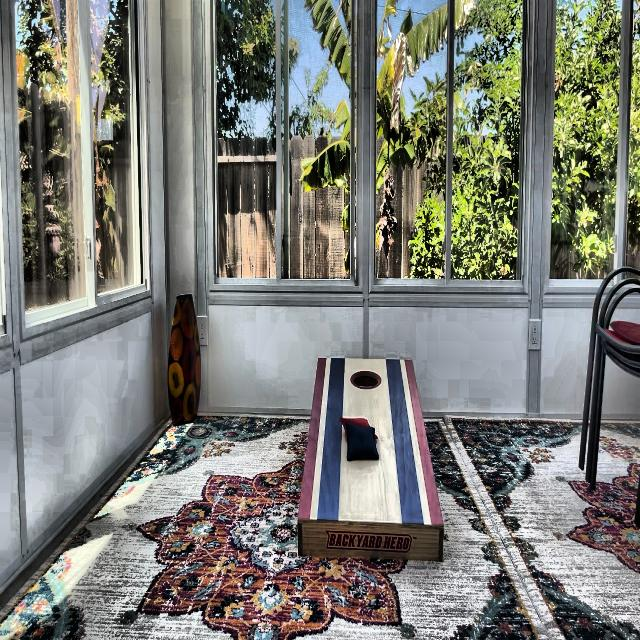blue-bean-bag: (346, 422, 378, 462)
board: (310, 357, 423, 520)
hole: (349, 369, 382, 390)
red-bean-bag: (340, 416, 379, 442)
